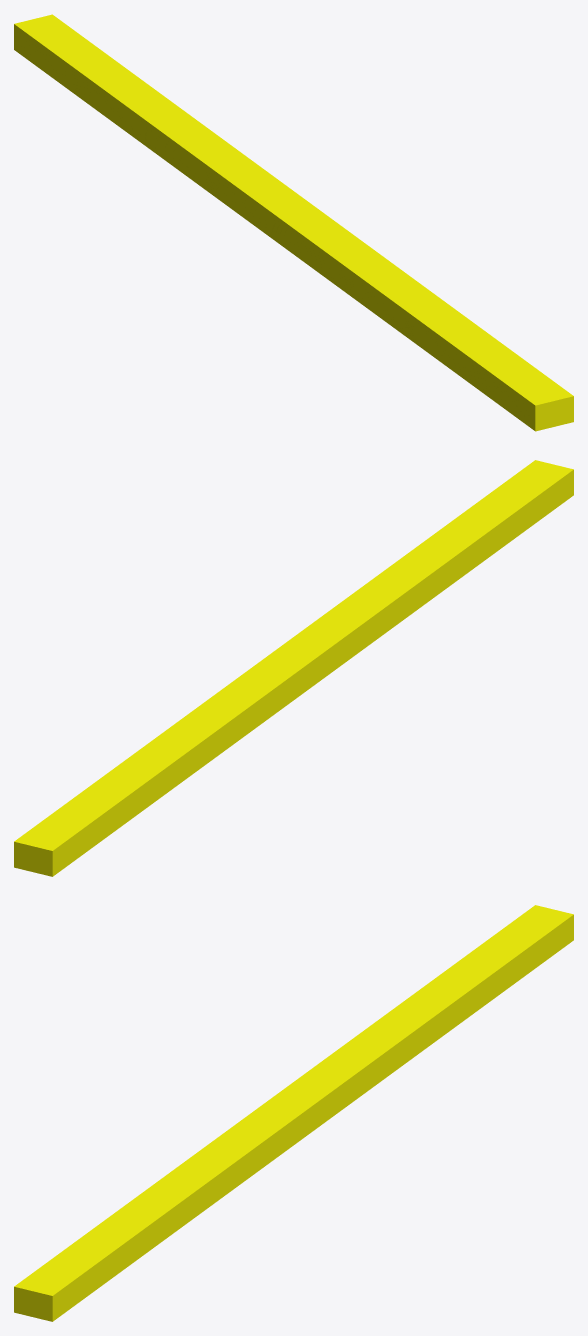
3 views of the same model, one above another, from view 1: azimuth 30°, elevation 25°; view 2: azimuth 150°, elevation 25°; view 3: azimuth 330°, elevation 25° (orthographic).
Parts seen in each view (by area): view 1: military_stopbar; view 2: military_stopbar; view 3: military_stopbar.
Part boxes in pixels (box(x1,y1,x2,y2)): military_stopbar: box(14, 14, 573, 431); military_stopbar: box(14, 460, 573, 876); military_stopbar: box(14, 905, 573, 1321).
Size of the model in its own units: 0.00151 by 0.000972 by 0.0355.
Materials: 1 (1 with a texture image).
